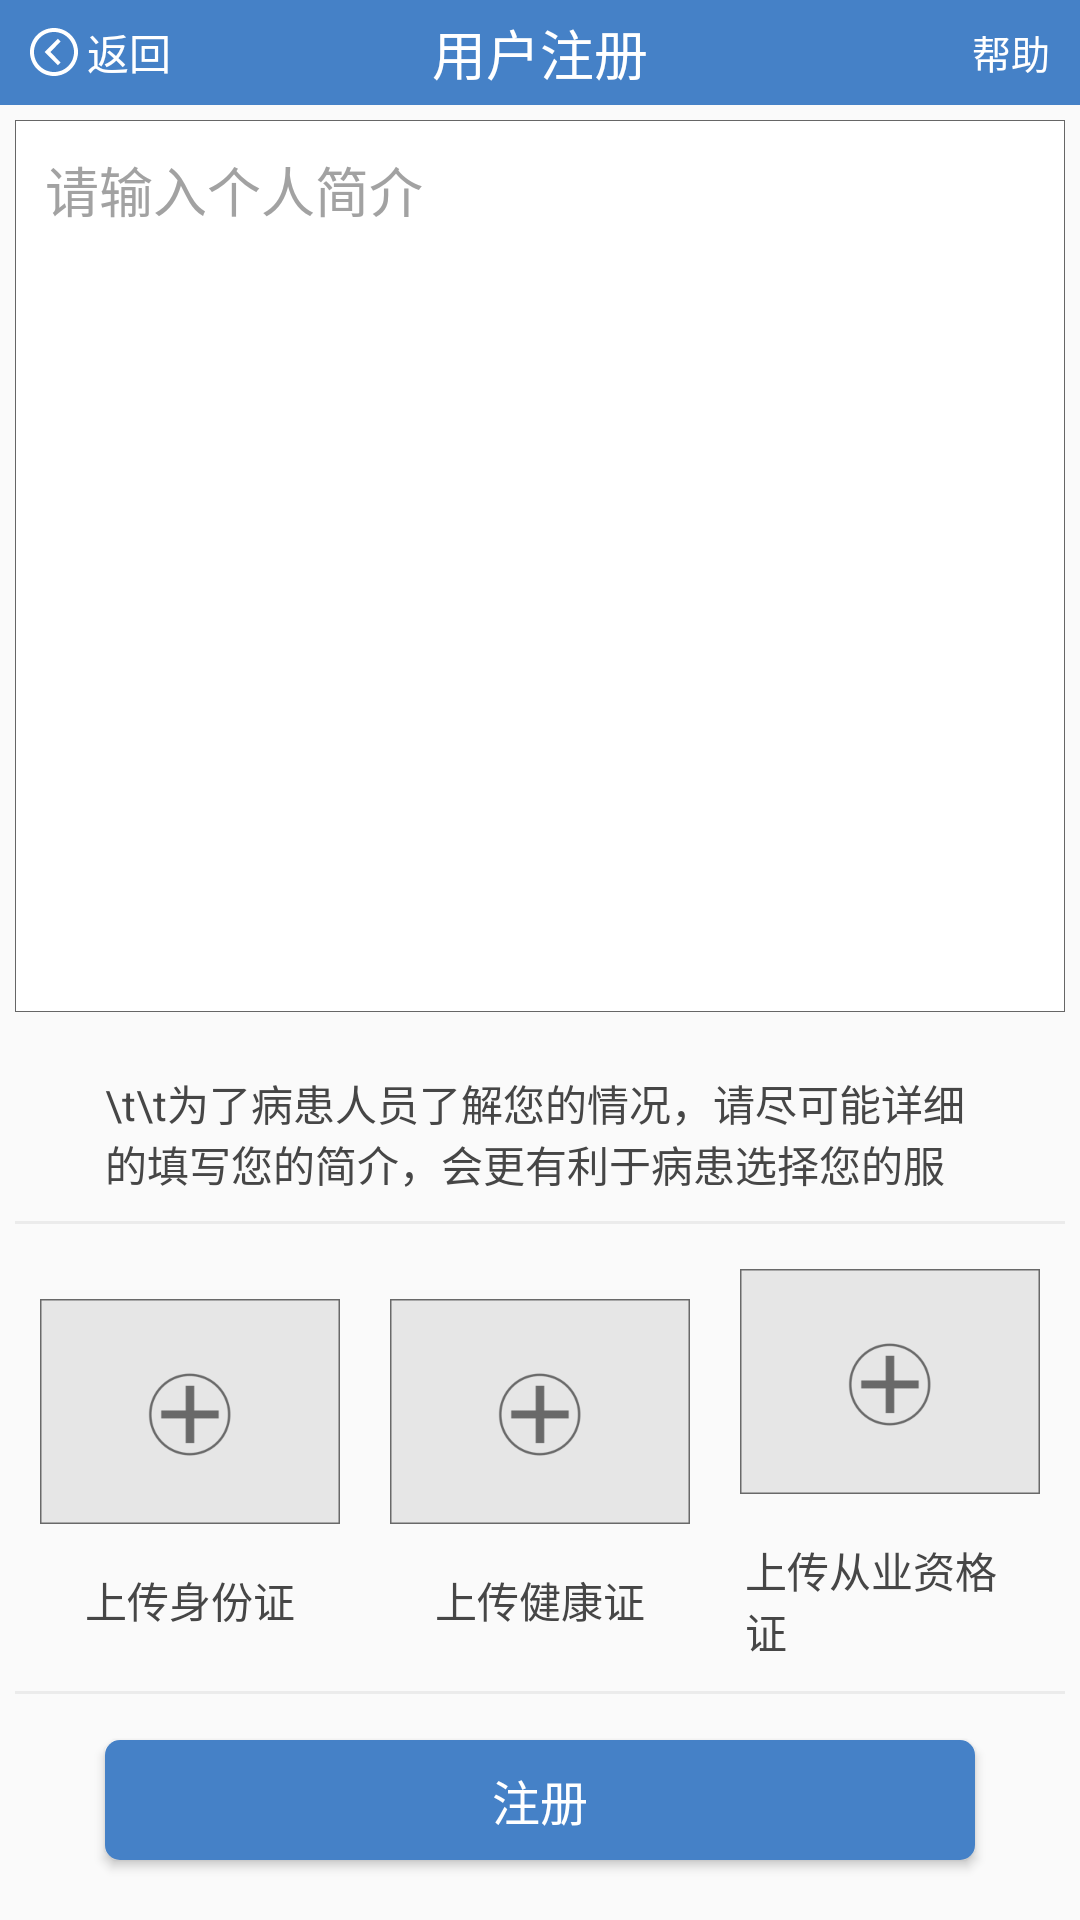

Named icons in this screenshot (1080 x 1920) and their bounding boxes, (x1, y1, x2, y2):
add pic: (740, 1269, 1040, 1494), (40, 1299, 340, 1524), (390, 1299, 690, 1524)
